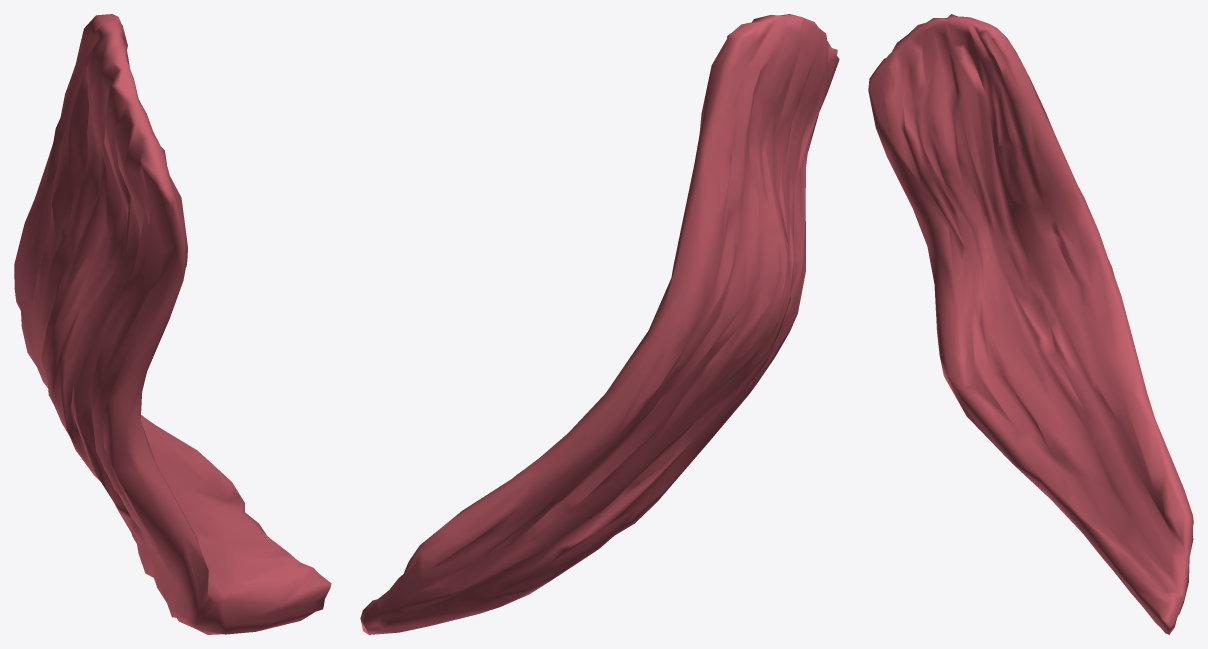
3 renders of one model, left to right at view 1: azimuth 30°, elevation 25°; view 2: azimuth 150°, elevation 25°; view 3: azimuth 270°, elevation 25°, orthographic. The views are drawn at different scales.
Parts seen in each view (by area): view 1: 右侧环甲肌斜部; view 2: 右侧环甲肌斜部; view 3: 右侧环甲肌斜部.
Part boxes in pixels (left/top/right/bottom): 右侧环甲肌斜部: left=14, top=14, right=331, bottom=634; 右侧环甲肌斜部: left=360, top=14, right=839, bottom=634; 右侧环甲肌斜部: left=868, top=14, right=1193, bottom=634.
Size of the model in its own units: 0.013 by 0.0233 by 0.0137.
